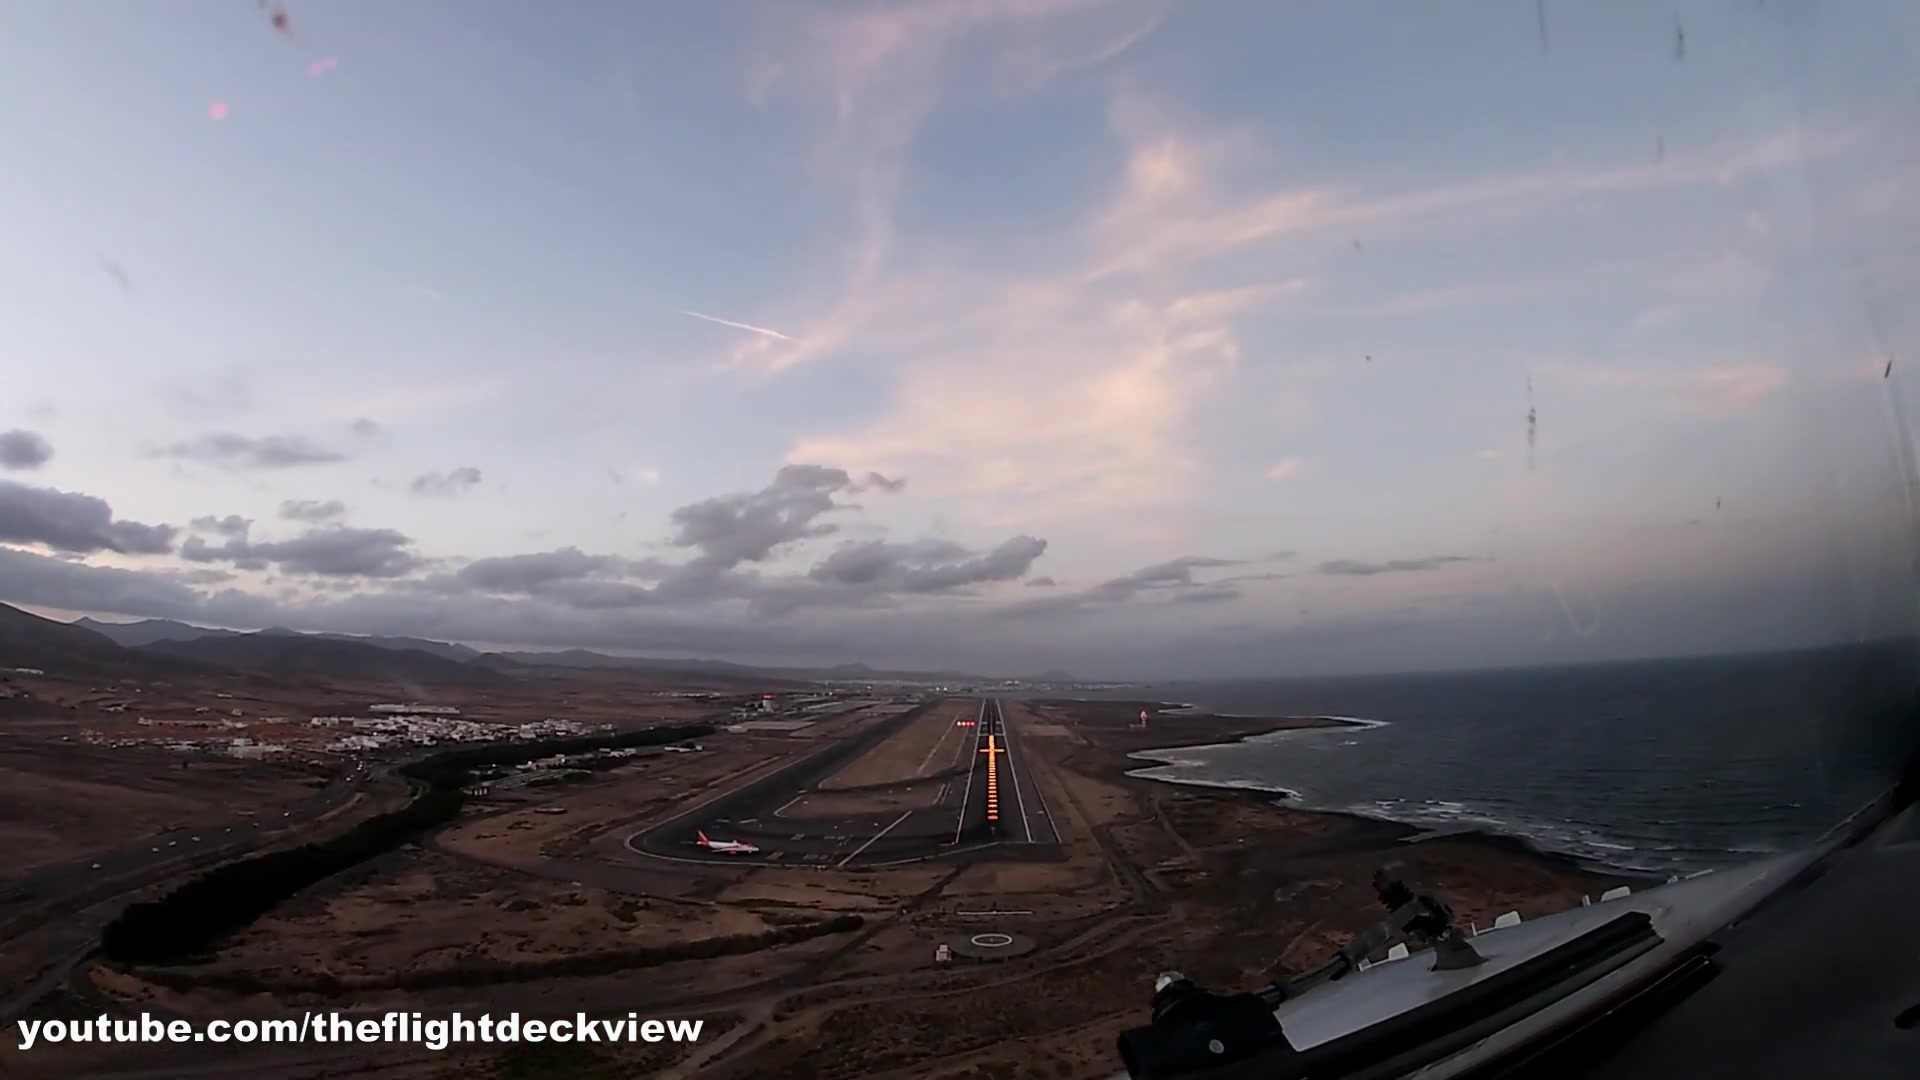runway: (976, 696, 1007, 745)
